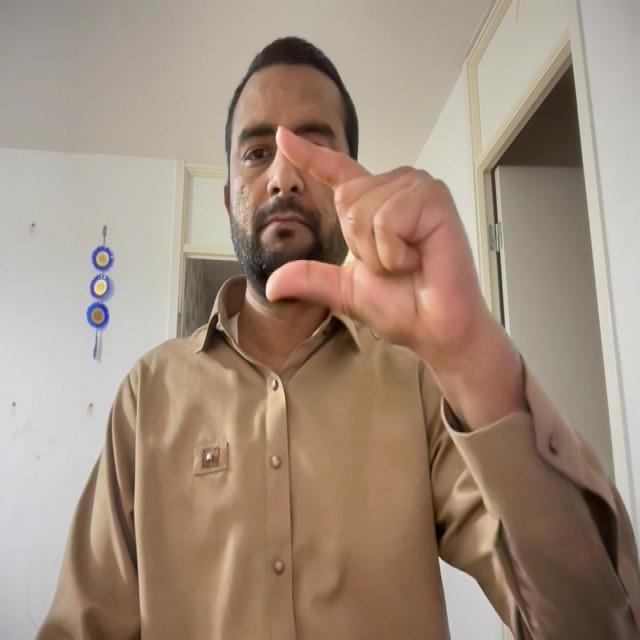No: (252, 115, 503, 355)
